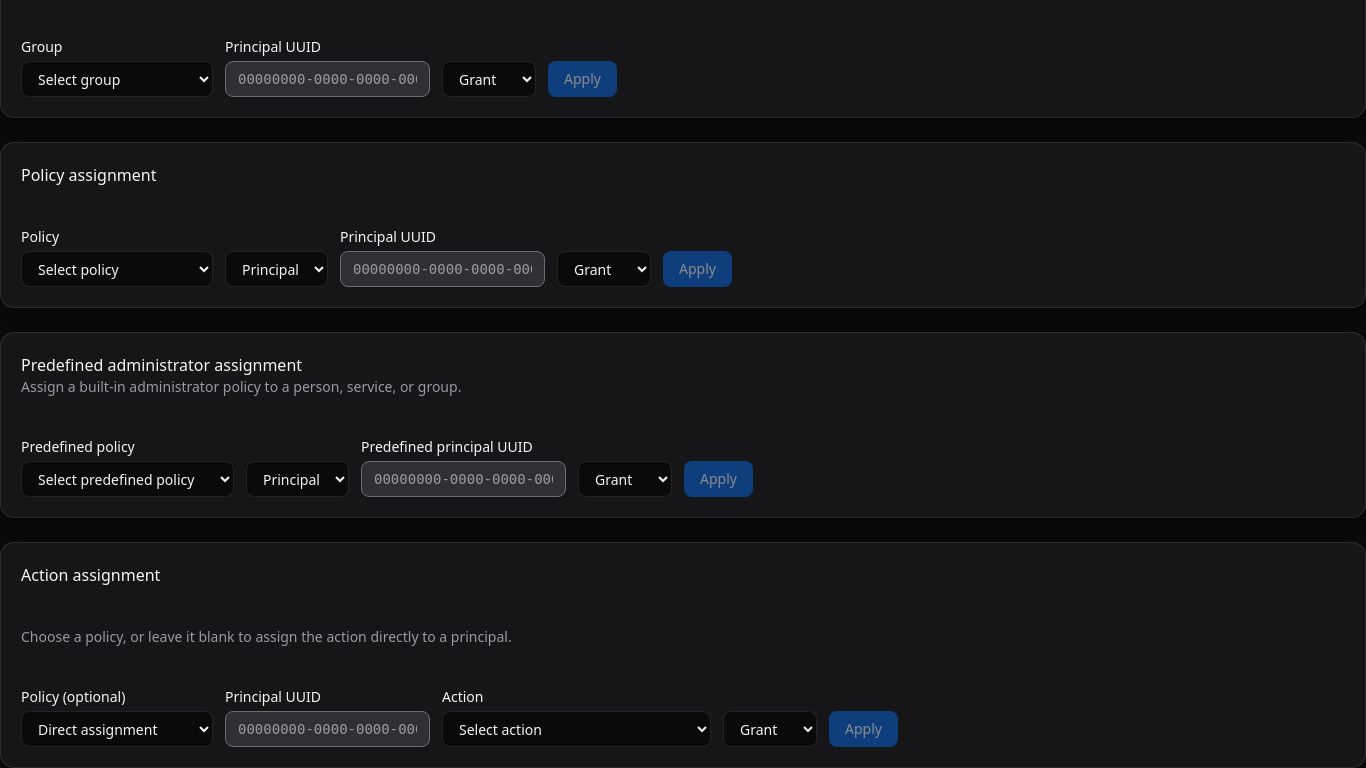
Test case: WorkspaceAuthorizationPage › recovers the original Action assignment command after its response is lost (direct-assignments)
(page scrolled)
Step 1. Type "55555555-5555-5555-5555-555555555555" into the field labelled "Principal UUID" below "Policy (optional)" → (328, 729), box x1=225 y1=711 x2=430 y2=747
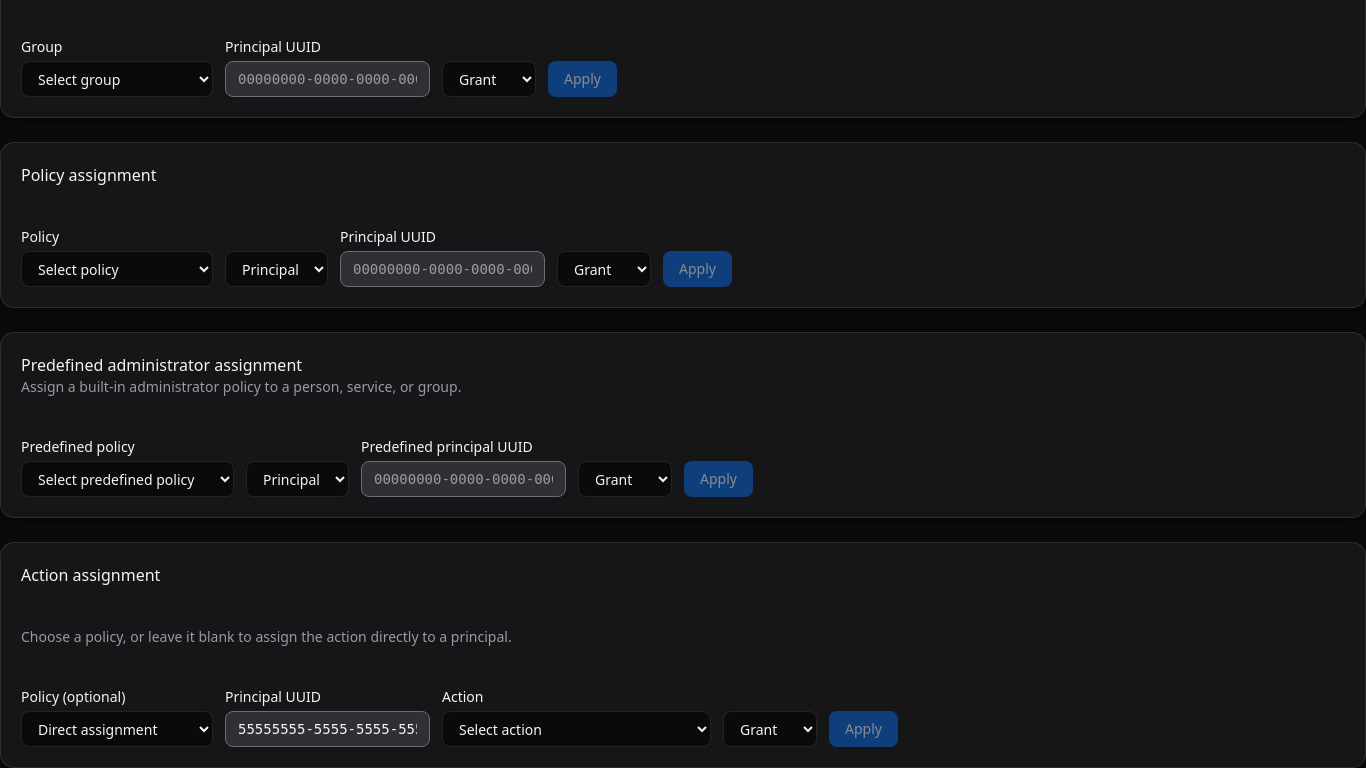
Step 2. Select "workspace.manage_authorization" in the dropdown labelled "Action" → (576, 729), box x1=442 y1=711 x2=711 y2=747
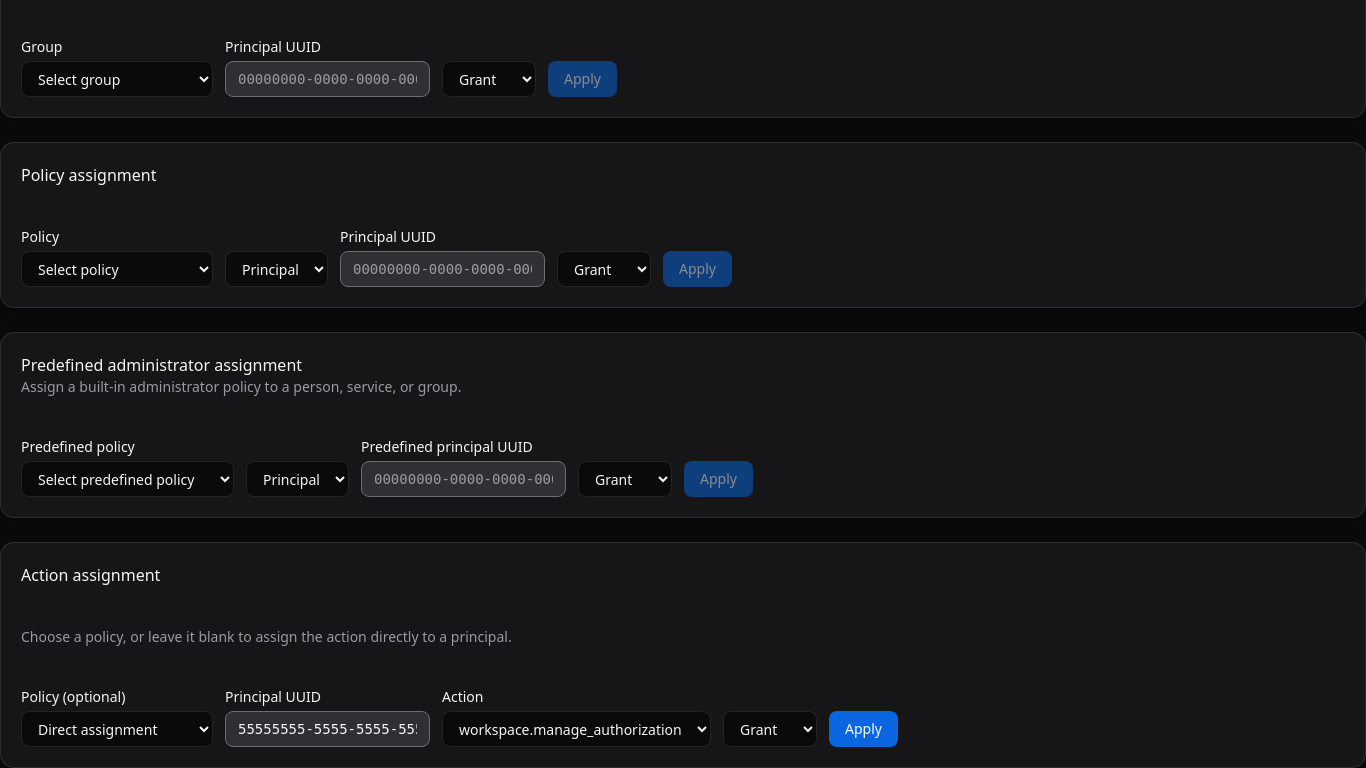
Step 3. Click the 4th button "Apply" → (863, 729), box x1=829 y1=711 x2=898 y2=747
(page scrolled)
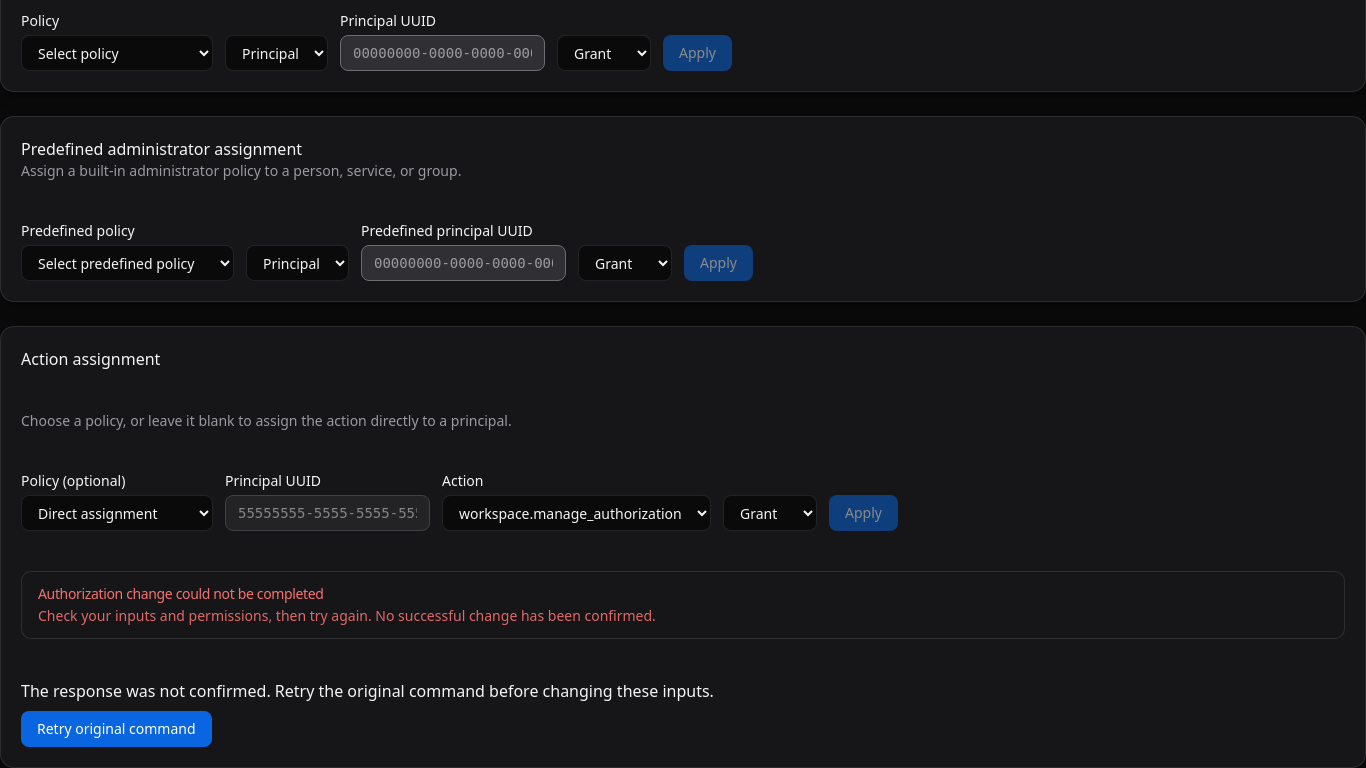
Expected: the field labelled "Principal UUID" below "Policy (optional)" is disabled, x1=225 y1=495 x2=430 y2=531
Result: the 3rd button "Apply" is disabled at x1=829 y1=495 x2=898 y2=531
Step 4. Click the button "Retry original command" → (116, 729), box x1=21 y1=711 x2=212 y2=747
(page scrolled)
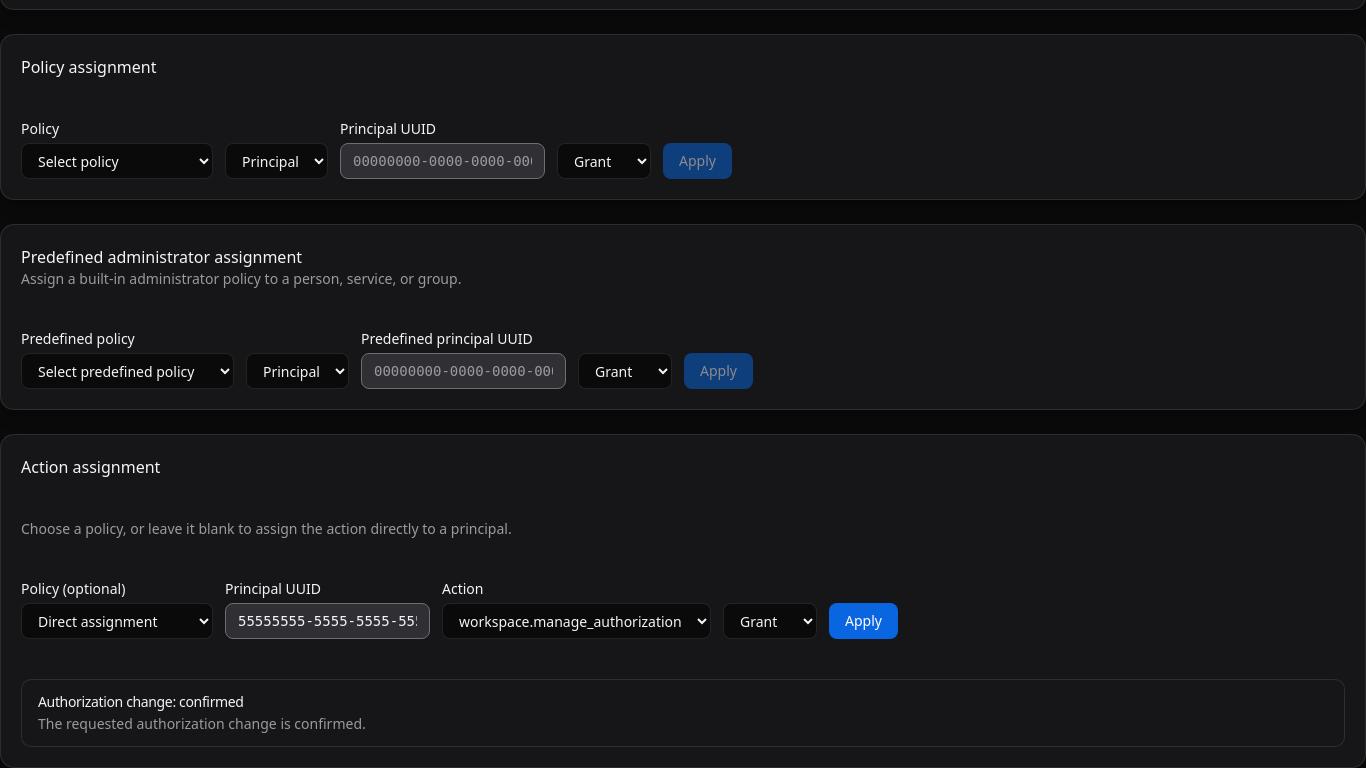
Result: the 3rd button "Apply" is enabled at x1=829 y1=603 x2=898 y2=639
Result: the text "Authorization change: confirmed" is shown at x1=38 y1=692 x2=244 y2=711
